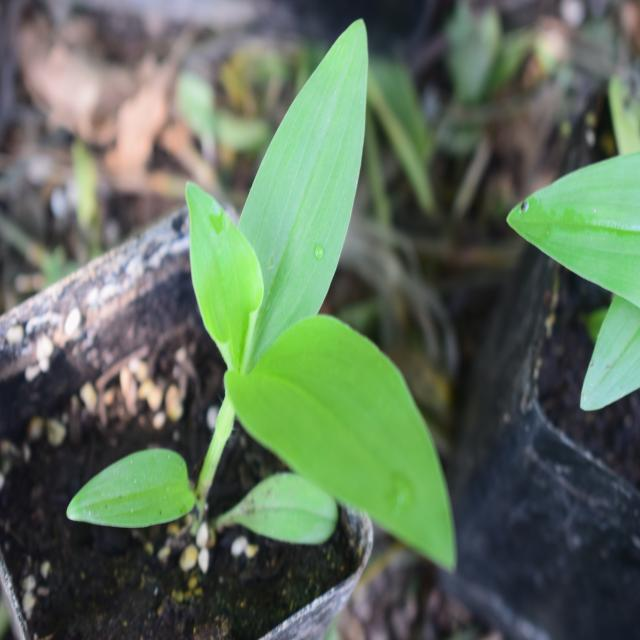Common Dayflower: (143, 32, 472, 562)
